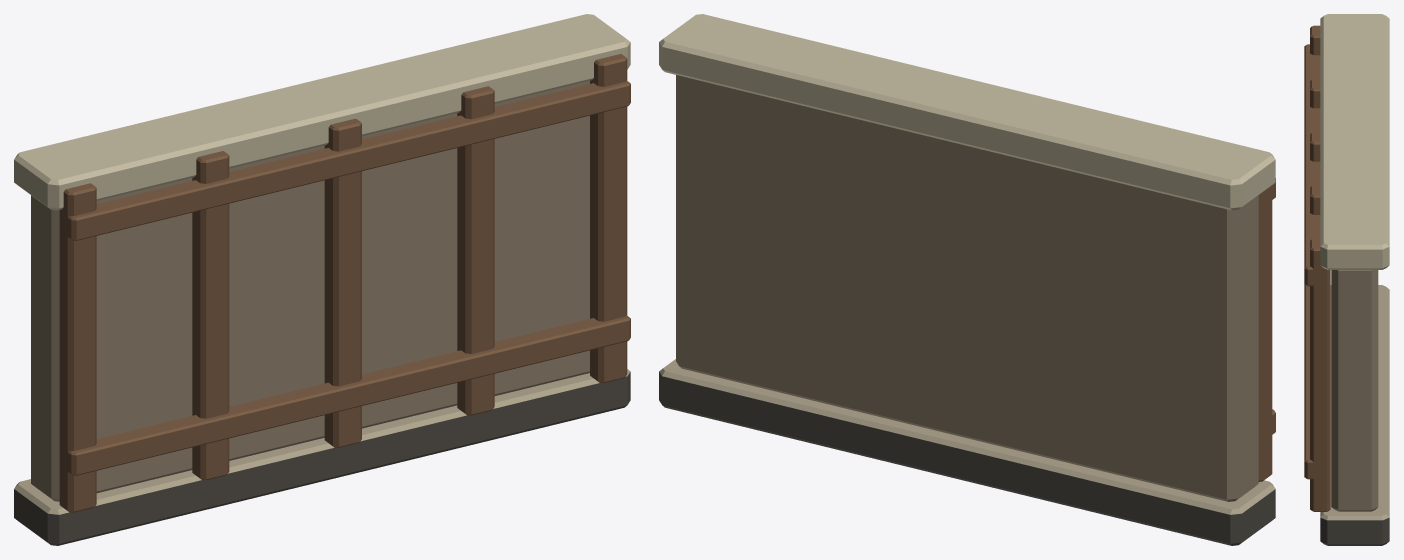
Rendered from platform-edge.glb.
The picture shows the model from 3 angles, left to right: view 1: azimuth 30°, elevation 25°; view 2: azimuth 150°, elevation 25°; view 3: azimuth 270°, elevation 25°; orthographic projection. The views are drawn at different scales.
Parts seen in each view (by area): view 1: platform-edge__body; view 2: platform-edge__body; view 3: platform-edge__body.
Boxes of the visible parts, <box> form: platform-edge__body: <box>14,14,630,545</box>; platform-edge__body: <box>659,14,1275,545</box>; platform-edge__body: <box>1304,14,1389,545</box>.
Bounding box in the file's own units: 2 × 1.2 × 0.3075.
